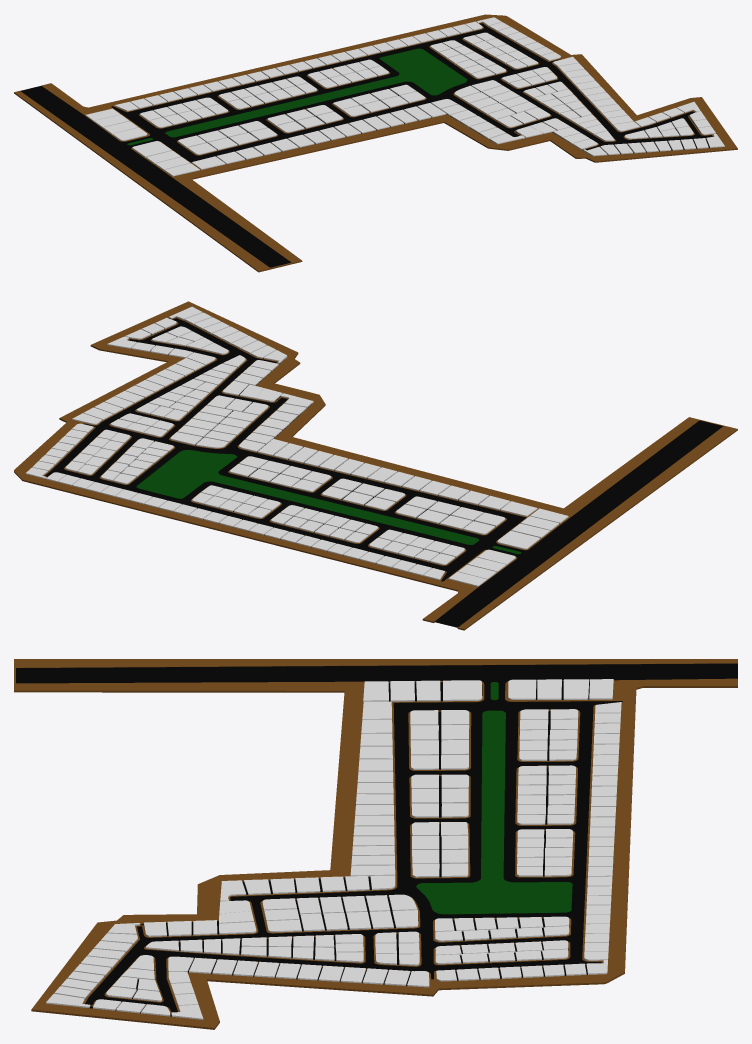
Rendered from map.glb.
3 renders of one model, top to bottom at view 1: azimuth 30°, elevation 25°; view 2: azimuth 150°, elevation 25°; view 3: azimuth 270°, elevation 25°, orthographic. The views are drawn at different scales.
Visible parts, largest first — view 1: Street, sidewalk, grass; view 2: Street, sidewalk, grass; view 3: Street, sidewalk, grass, Lot_005.
Part boxes in pixels (bbox=[...]): Street: bbox=[20, 23, 713, 267]; sidewalk: bbox=[14, 14, 737, 272]; grass: bbox=[127, 48, 467, 145]; Street: bbox=[44, 318, 722, 627]; sidewalk: bbox=[14, 301, 737, 630]; grass: bbox=[136, 450, 521, 554]; Street: bbox=[16, 663, 737, 1016]; sidewalk: bbox=[14, 659, 737, 1029]; grass: bbox=[416, 682, 572, 914]; Lot_005: bbox=[443, 680, 482, 701].
Bounding box in the file's own units: 86.56 × 0.3445 × 71.76.
